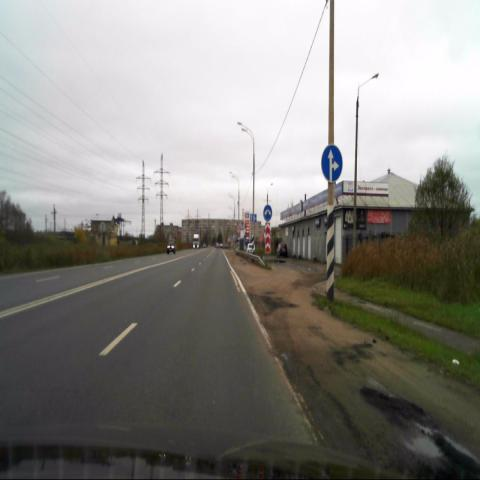4_1_4: (321, 144, 342, 183)
